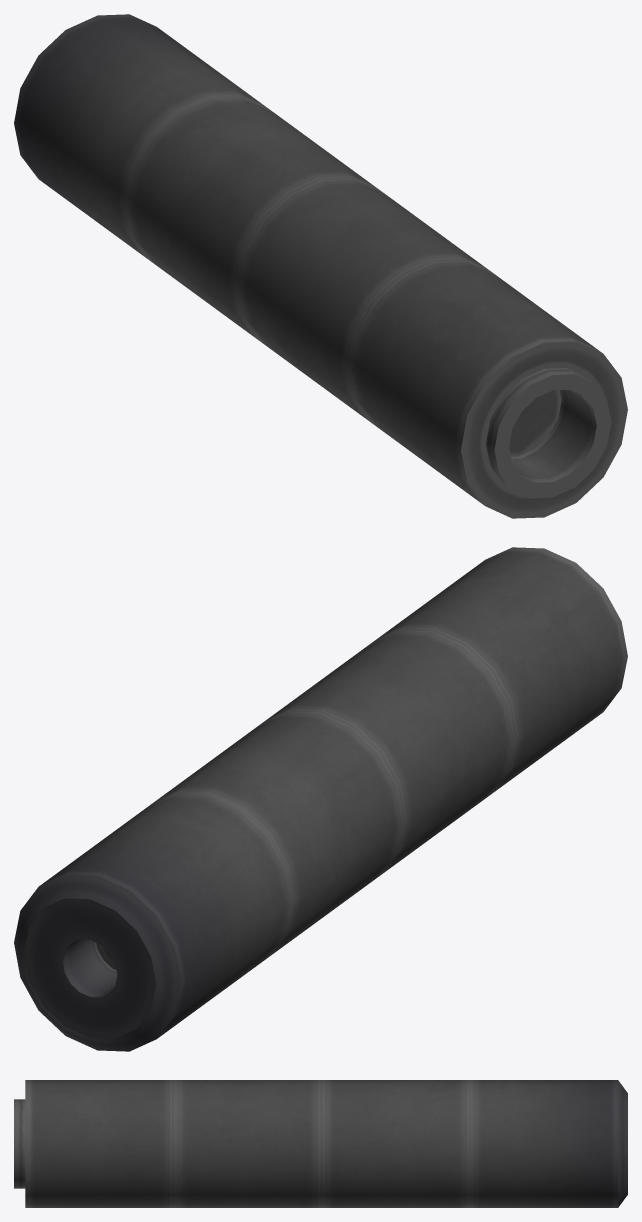
Rendered from att_sus.glb.
3 renders of one model, top to bottom at view 1: azimuth 30°, elevation 25°; view 2: azimuth 150°, elevation 25°; view 3: azimuth 270°, elevation 25°, orthographic. The views are drawn at different scales.
Visible parts, largest first — view 1: Silencer_lowTris; view 2: Silencer_lowTris; view 3: Silencer_lowTris.
Part boxes in pixels (<box>): Silencer_lowTris: <box>14,14,627,518</box>; Silencer_lowTris: <box>14,547,627,1051</box>; Silencer_lowTris: <box>14,1080,627,1207</box>.
Size of the model in its own units: 0.0344 by 0.0344 by 0.165.
1 material, 1 textured.
